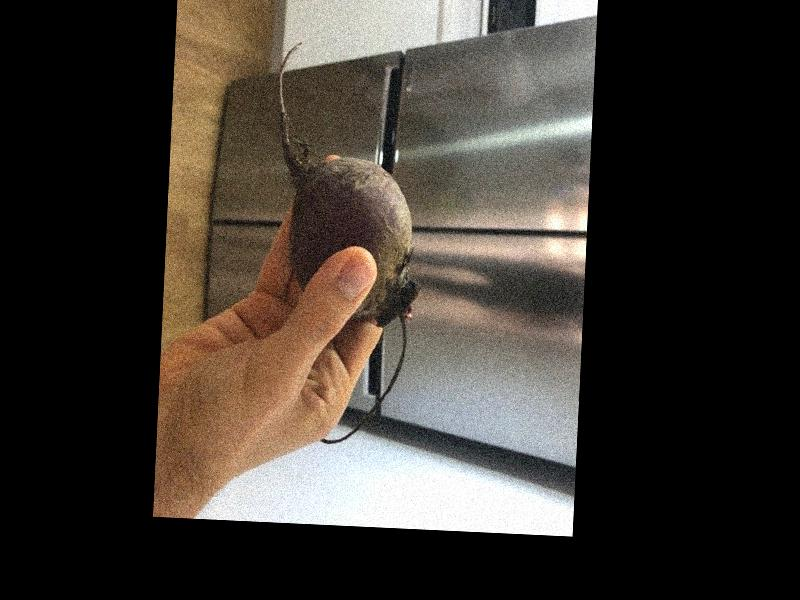Beet: (260, 37, 428, 447)
